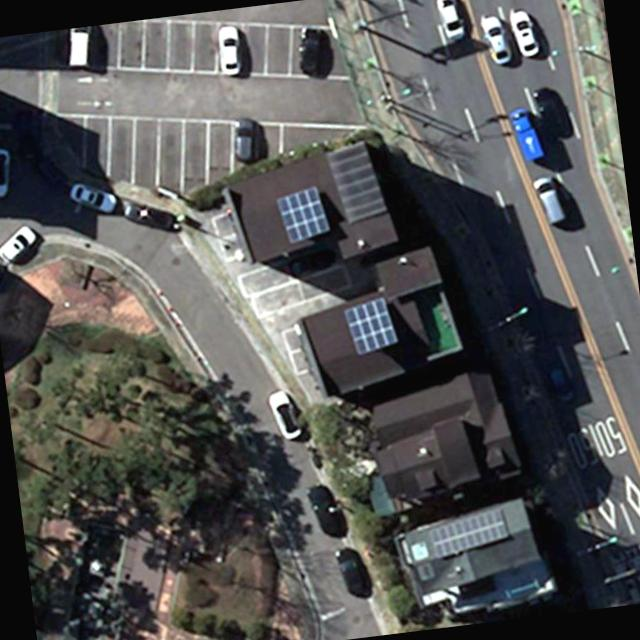solar: (424, 508, 512, 558), (342, 294, 402, 358), (272, 184, 333, 244)
